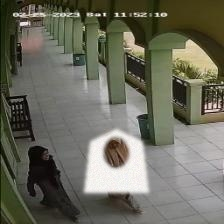Mukena: (84, 129, 148, 192)
